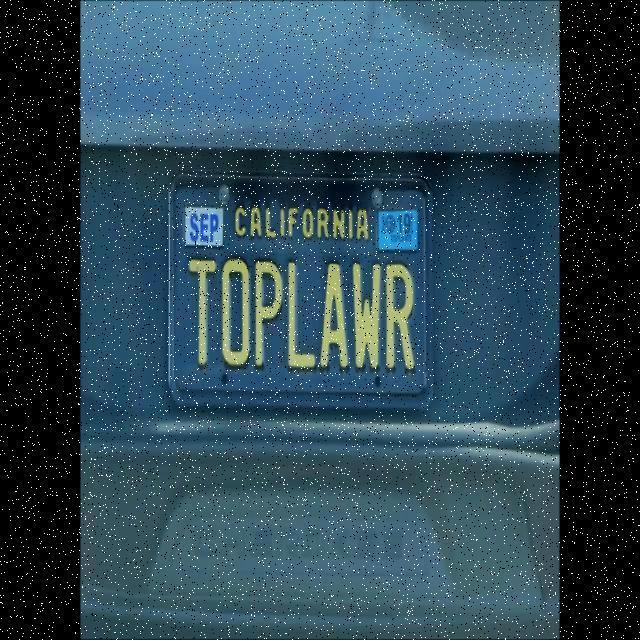LicensePlate: (168, 162, 432, 397)
